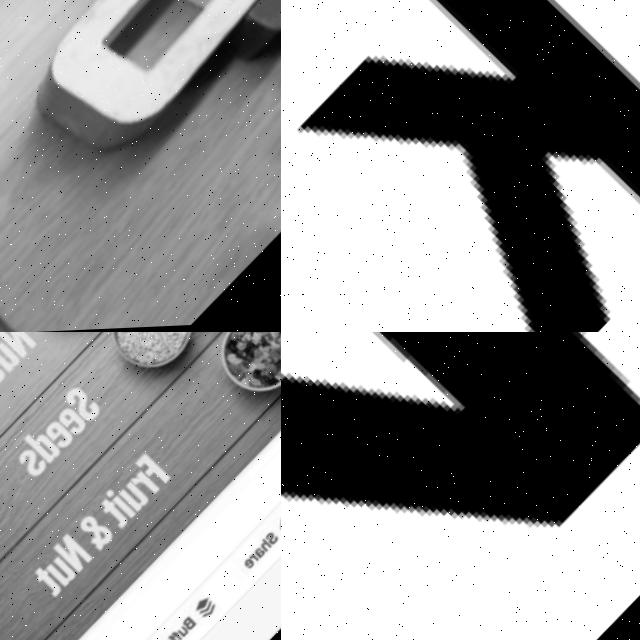A: (251, 550, 264, 564)
B: (179, 620, 195, 636)
D: (21, 428, 60, 468)
E: (54, 407, 87, 441), (42, 420, 74, 454), (240, 561, 253, 574)
F: (132, 455, 170, 493), (167, 632, 181, 640), (164, 636, 177, 640)
H: (256, 543, 270, 556)
I: (202, 0, 281, 170), (103, 491, 134, 523)
K: (281, 0, 640, 332)
N: (49, 534, 92, 577), (0, 332, 36, 362)
Q: (6, 0, 281, 185)
R: (130, 474, 158, 503), (246, 556, 258, 569)
S: (60, 385, 102, 429), (13, 448, 47, 482), (261, 534, 278, 552)
T: (29, 567, 63, 601), (96, 499, 129, 533), (0, 351, 8, 386)
U: (43, 559, 76, 592), (117, 484, 149, 516), (0, 341, 22, 376), (174, 628, 187, 640)
V: (281, 332, 640, 640)
